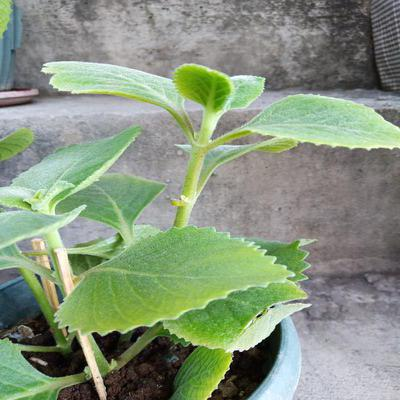Oregano: (21, 69, 349, 386)
